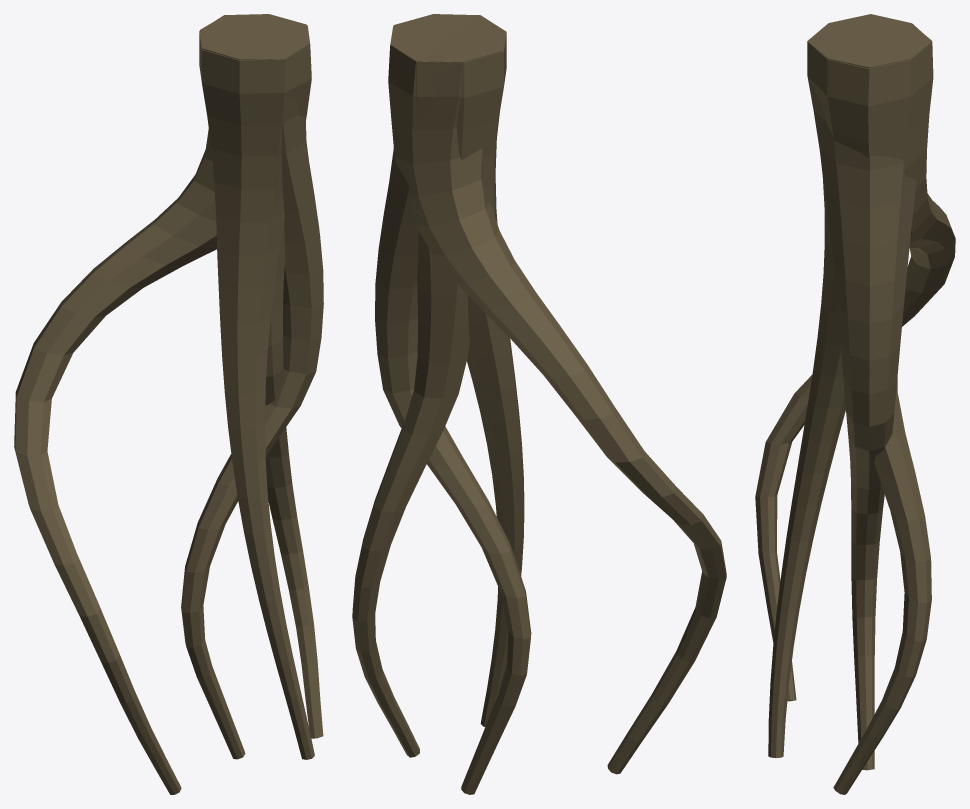
The model's file is RootBundle.4.fbx.
The picture shows the model from 3 angles, left to right: view 1: azimuth 30°, elevation 25°; view 2: azimuth 150°, elevation 25°; view 3: azimuth 270°, elevation 25°; orthographic projection. The views are drawn at different scales.
Visible parts, largest first — view 1: RootBundle.4; view 2: RootBundle.4; view 3: RootBundle.4.
Boxes of the visible parts, x1,y1,x2,y2 form: RootBundle.4: (14, 14, 323, 794); RootBundle.4: (352, 14, 726, 794); RootBundle.4: (755, 14, 955, 794).
Size of the model in its own units: 190 by 429 by 105.
